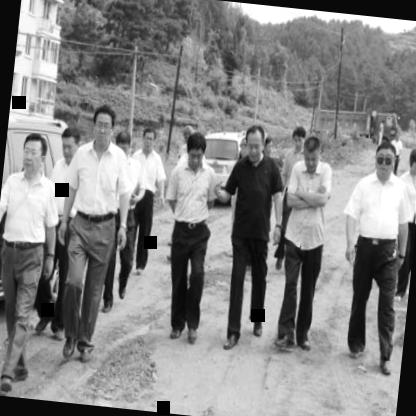head: (16, 129, 51, 179), (89, 102, 118, 150), (238, 121, 268, 166), (180, 132, 210, 175), (371, 138, 401, 180), (298, 134, 324, 175), (58, 121, 82, 162), (110, 128, 135, 164), (286, 123, 308, 155), (138, 127, 158, 160), (407, 144, 416, 179)
